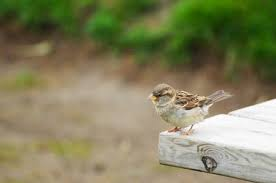home_sparrow: (131, 74, 233, 137)
